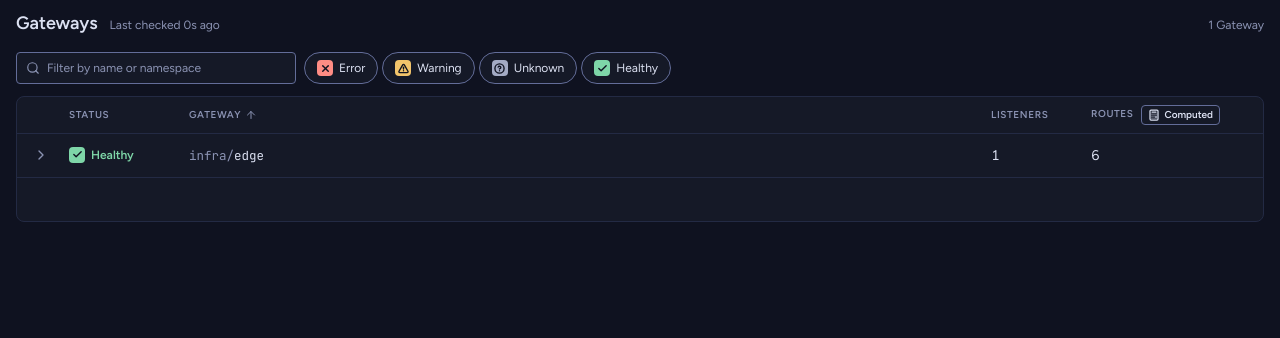
Scenario: below 900 px › moves secondary columns into an expandable row
The width and height of the screenshot is (1280, 338).
Expected: the text "edge" is shown, top-left (234, 147), bottom-right (264, 164)
Expected: the column heading "Addresses" is not shown
Click the button named "Show details for infra/edge": (41, 155) top-left (29, 143), bottom-right (53, 167)
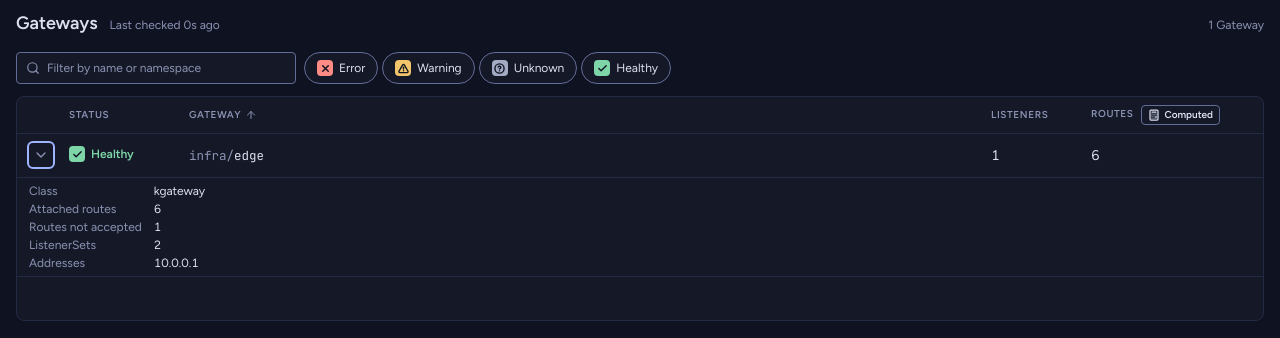
Expected: the button named "Hide details for infra/edge" is expanded, top-left (29, 143), bottom-right (53, 167)
Expected: the text "Addresses" is shown, top-left (29, 256), bottom-right (85, 270)
Expected: the text "10.0.0.1" is shown, top-left (154, 256), bottom-right (199, 270)
